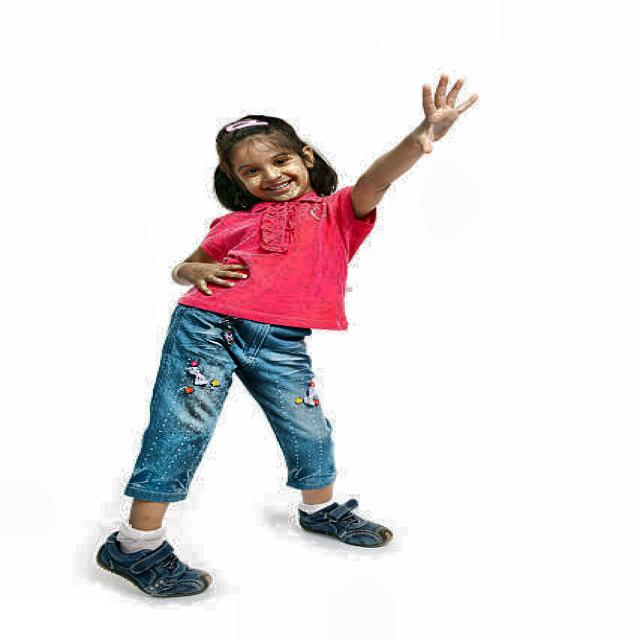Human: (115, 103, 432, 588)
